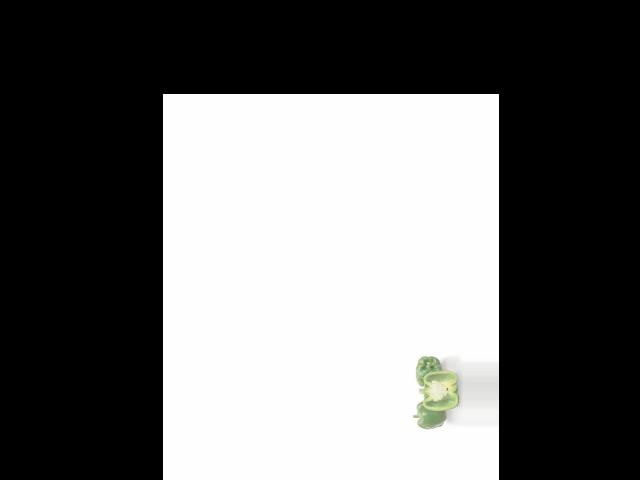bell_pepper: (412, 353, 445, 389)
